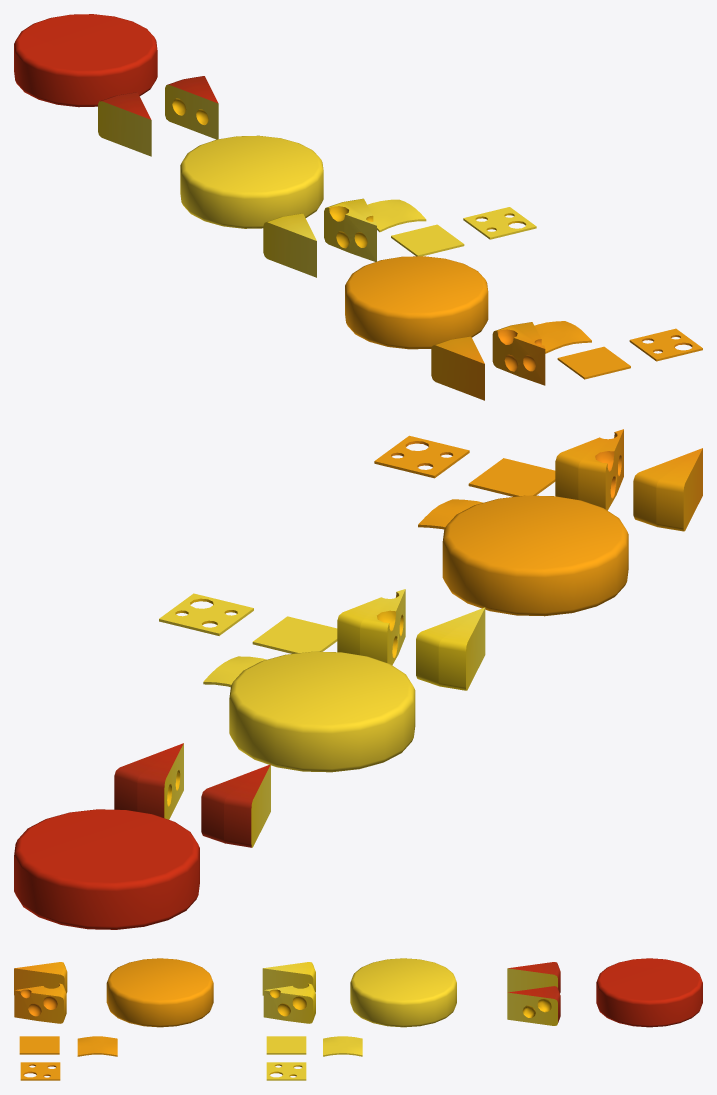
The model's file is cheese.fbx.
3 views of the same model, one above another, from view 1: azimuth 30°, elevation 25°; view 2: azimuth 150°, elevation 25°; view 3: azimuth 270°, elevation 25° (orthographic). The views are drawn at different scales.
Visible parts, largest first — view 1: cheddarCheeseWheel, cheeseWheel_Wax, cheeseWheel, cheddarCheeseTriangle_Hole, cheeseTriangle_Wax, cheeseTriangle, cheddarCheeseTriangle, cheeseTriangle_Wax_Hole, cheeseTriangle_Hole, cheddarCheeseSlice, cheeseSlice, cheeseSlice_Hole (+3 smaller); view 2: cheeseWheel, cheddarCheeseWheel, cheeseWheel_Wax, cheeseTriangle, cheddarCheeseTriangle, cheeseTriangle_Wax, cheddarCheeseTriangle_Hole, cheeseTriangle_Wax_Hole, cheeseTriangle_Hole, cheddarCheeseSlice, cheddarCheeseSlice_Hole, cheeseSlice_Hole (+3 smaller); view 3: cheddarCheeseWheel, cheeseWheel, cheeseWheel_Wax, cheeseTriangle_Wax_Hole, cheeseTriangle_Hole, cheddarCheeseTriangle_Hole, cheeseTriangle_Wax, cheeseTriangle, cheddarCheeseTriangle, cheeseSlice, cheddarCheeseSlice, cheddarCheeseSlice_Melted (+3 smaller).
Part boxes in pixels (box(x1,y1,x2,y2)): cheddarCheeseWheel: box(345, 256, 488, 349); cheeseWheel_Wax: box(14, 14, 157, 107); cheeseWheel: box(180, 135, 323, 228); cheddarCheeseTriangle_Hole: box(492, 322, 545, 385); cheeseTriangle_Wax: box(98, 92, 151, 156); cheeseTriangle: box(263, 213, 316, 277); cheddarCheeseTriangle: box(431, 336, 484, 400); cheeseTriangle_Wax_Hole: box(165, 76, 218, 139); cheeseTriangle_Hole: box(324, 198, 376, 261); cheddarCheeseSlice: box(557, 346, 630, 379); cheeseSlice: box(391, 224, 464, 256); cheeseSlice_Hole: box(463, 207, 536, 239); cheeseWheel: box(229, 651, 415, 772); cheddarCheeseWheel: box(442, 495, 628, 616); cheeseWheel_Wax: box(14, 809, 199, 929); cheeseTriangle: box(416, 607, 485, 690); cheddarCheeseTriangle: box(633, 448, 702, 531); cheeseTriangle_Wax: box(201, 764, 270, 847); cheddarCheeseTriangle_Hole: box(555, 429, 623, 510); cheeseTriangle_Wax_Hole: box(114, 743, 183, 819); cheeseTriangle_Hole: box(337, 589, 405, 665); cheddarCheeseSlice: box(468, 458, 555, 496); cheddarCheeseSlice_Hole: box(374, 435, 469, 478); cheeseSlice_Hole: box(159, 593, 253, 635); cheddarCheeseWheel: box(106, 958, 213, 1027); cheeseWheel: box(350, 958, 456, 1027); cheeseWheel_Wax: box(596, 958, 702, 1027); cheeseTriangle_Wax_Hole: box(507, 986, 560, 1025); cheeseTriangle_Hole: box(263, 983, 315, 1023); cheddarCheeseTriangle_Hole: box(14, 983, 66, 1023); cheeseTriangle_Wax: box(507, 962, 560, 993); cheeseTriangle: box(262, 962, 315, 995); cheddarCheeseTriangle: box(14, 962, 67, 994); cheeseSlice: box(266, 1036, 306, 1054); cheddarCheeseSlice: box(19, 1036, 59, 1054); cheddarCheeseSlice_Melted: box(77, 1036, 117, 1056).
Bounding box in the file's own units: 4.37 × 13.86 × 0.7639.
1 material, 1 textured.
